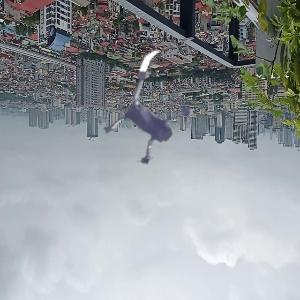drone: (93, 49, 227, 183)
